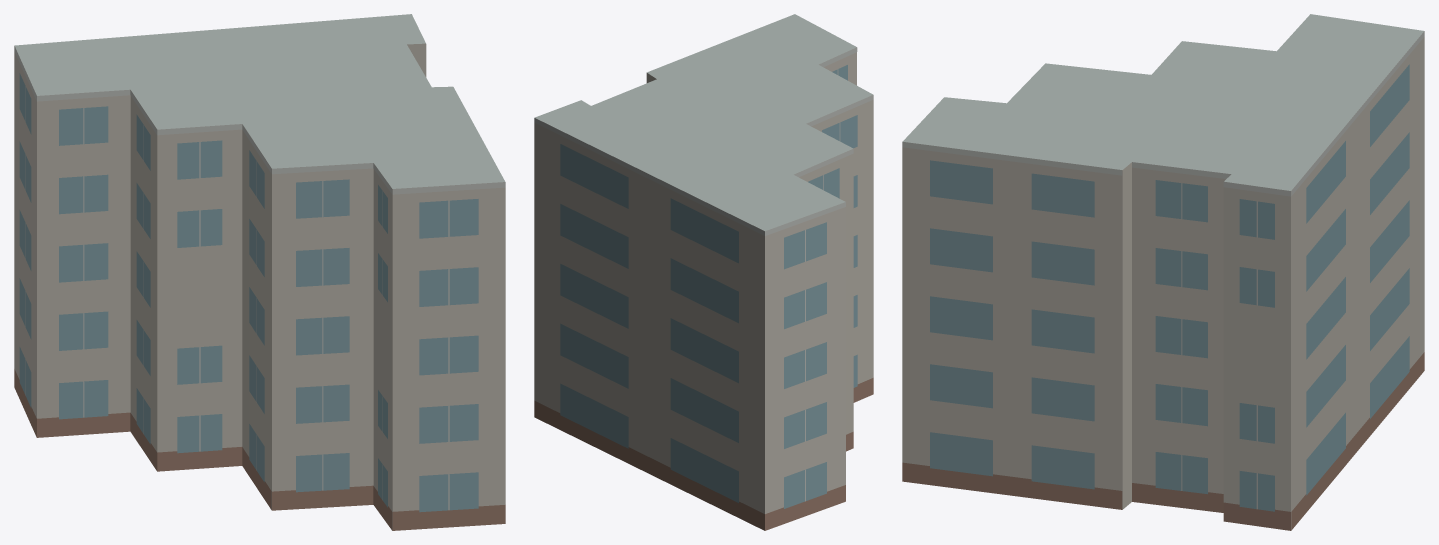
The model's file is survey-upis-32514497.glb.
The picture shows the model from 3 angles, left to right: view 1: azimuth 30°, elevation 25°; view 2: azimuth 150°, elevation 25°; view 3: azimuth 270°, elevation 25°; orthographic projection. The views are drawn at different scales.
Parts seen in each view (by area): view 1: survey-upis-32514497.tmp; view 2: survey-upis-32514497.tmp; view 3: survey-upis-32514497.tmp.
Part boxes in pixels (left/top/right/bottom): survey-upis-32514497.tmp: left=14, top=14, right=505, bottom=530; survey-upis-32514497.tmp: left=534, top=14, right=873, bottom=530; survey-upis-32514497.tmp: left=902, top=14, right=1424, bottom=530.
Size of the model in its own units: 16.66 by 14.9 by 20.76.
